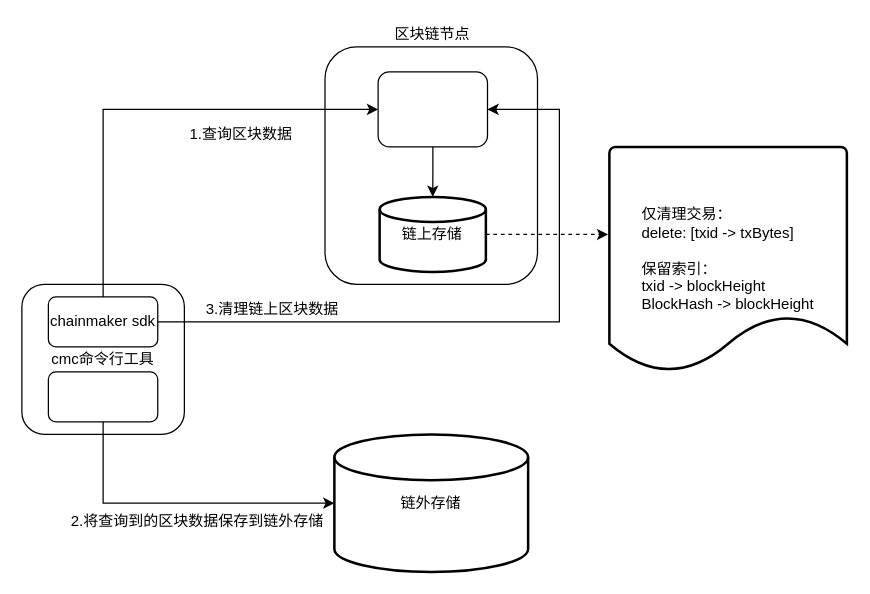
This 870x594 diagram has some shape labels left out. Here are the shapes that lost their labels. From the top down, the box of each, then its label:
(377, 71, 488, 147): RPC server
(47, 371, 158, 422): 链外存储client
